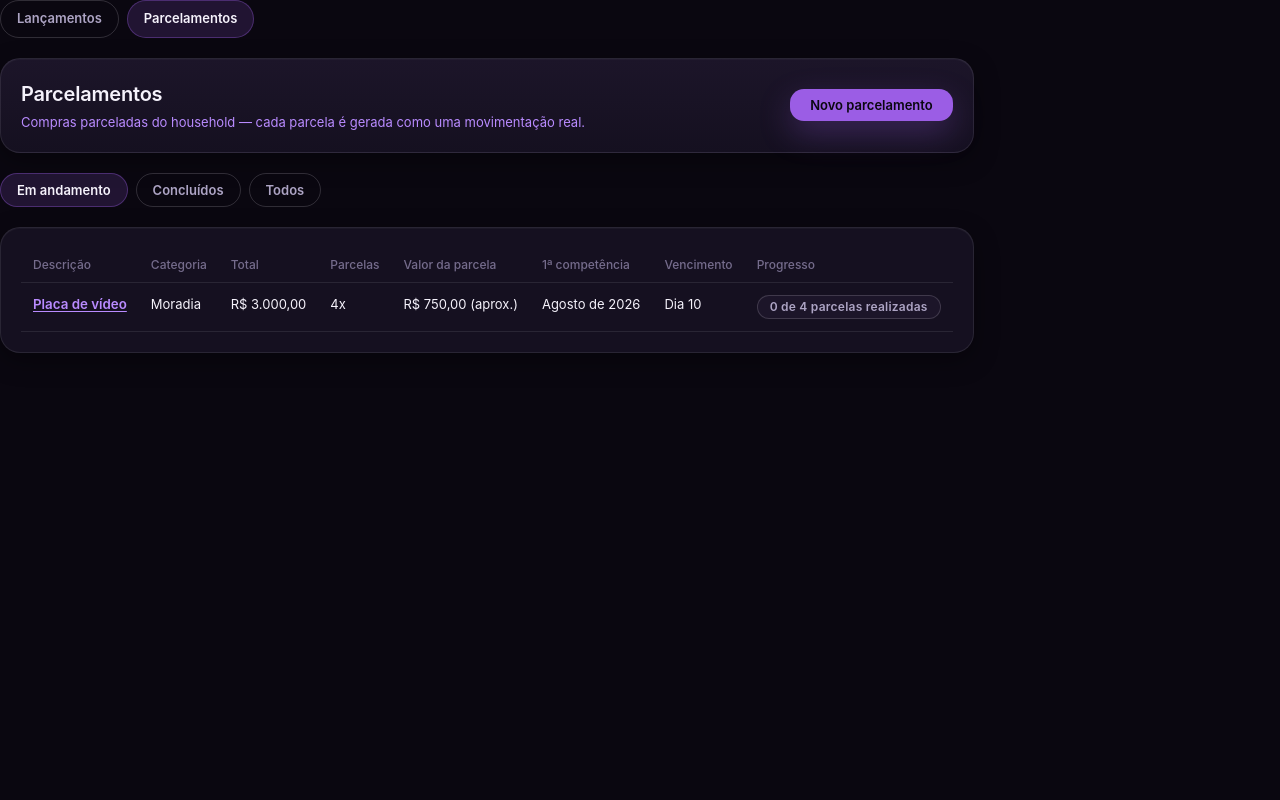
it: InstallmentPlansPage — realizar parcela a partir do detalhe do parcelamento (integração Parcelamentos ↔ Lançamentos) › "Marcar como pago" realiza a MESMA FinancialEntry — sem criar lançamento novo, id/installmentPlanId/installmentNumber preservados
The image size is (1280, 800).
Click the button "Placa de vídeo". click: click(80, 304)
box: [33,296,127,312]
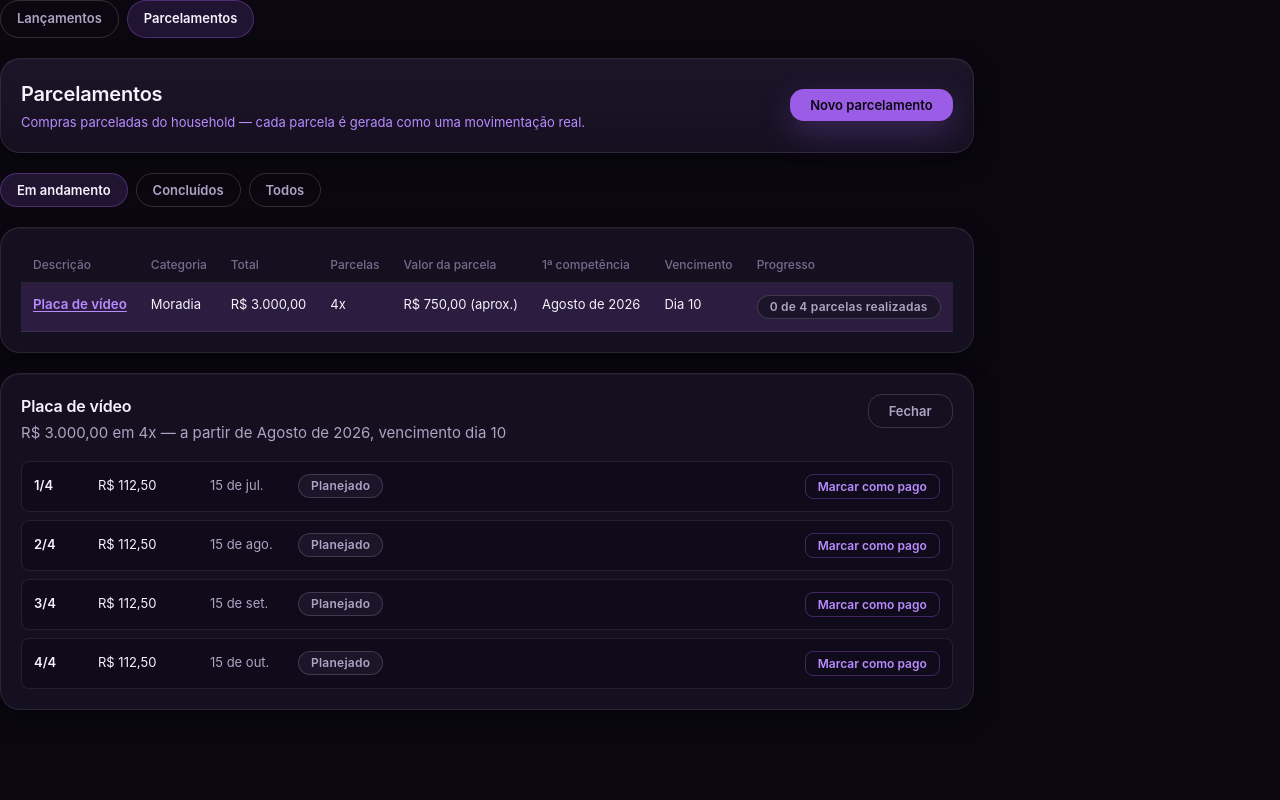
Expected: the text "0 de 4 parcelas realizadas" is shown, [757,295,941,319]
Expected: the button with aria-label "Marcar parcela 1 de 4 como paga" is shown
Click the button with aria-label "Marcar parcela 1 de 4 como paga". click: click(872, 486)
box: [805,474,940,498]
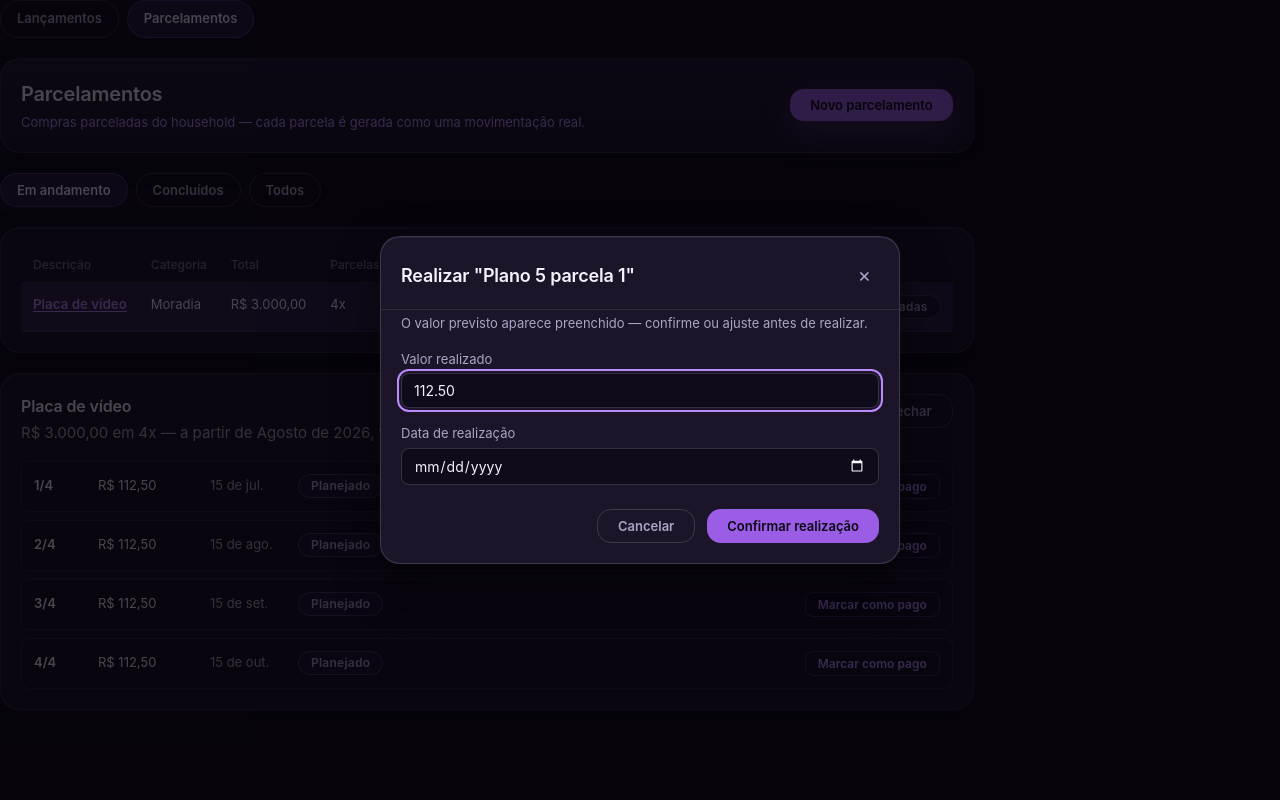
Type "2026-07-20" into the date field labelled "Data de realização". click: (640, 466)
box: [401,448,879,485]
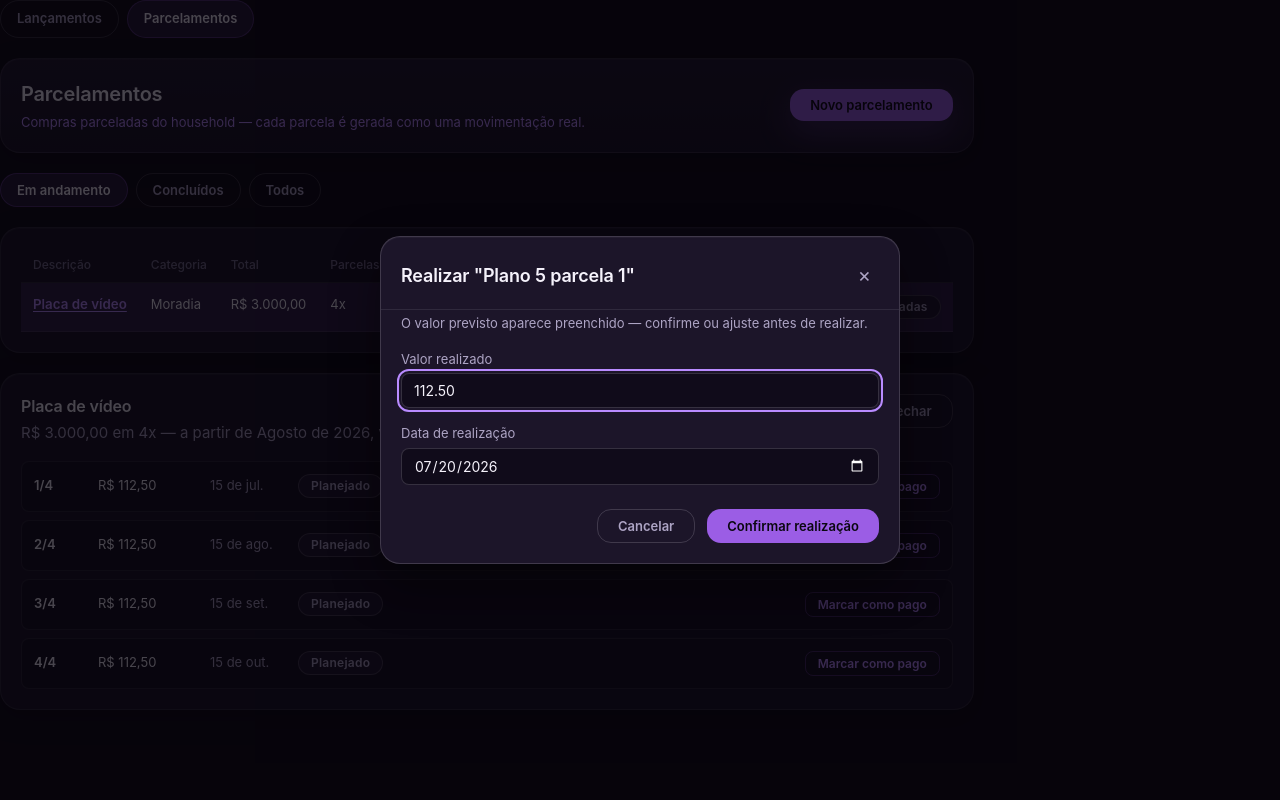
Click the button "Confirmar realização". click: click(793, 526)
box: [707,509,879,543]
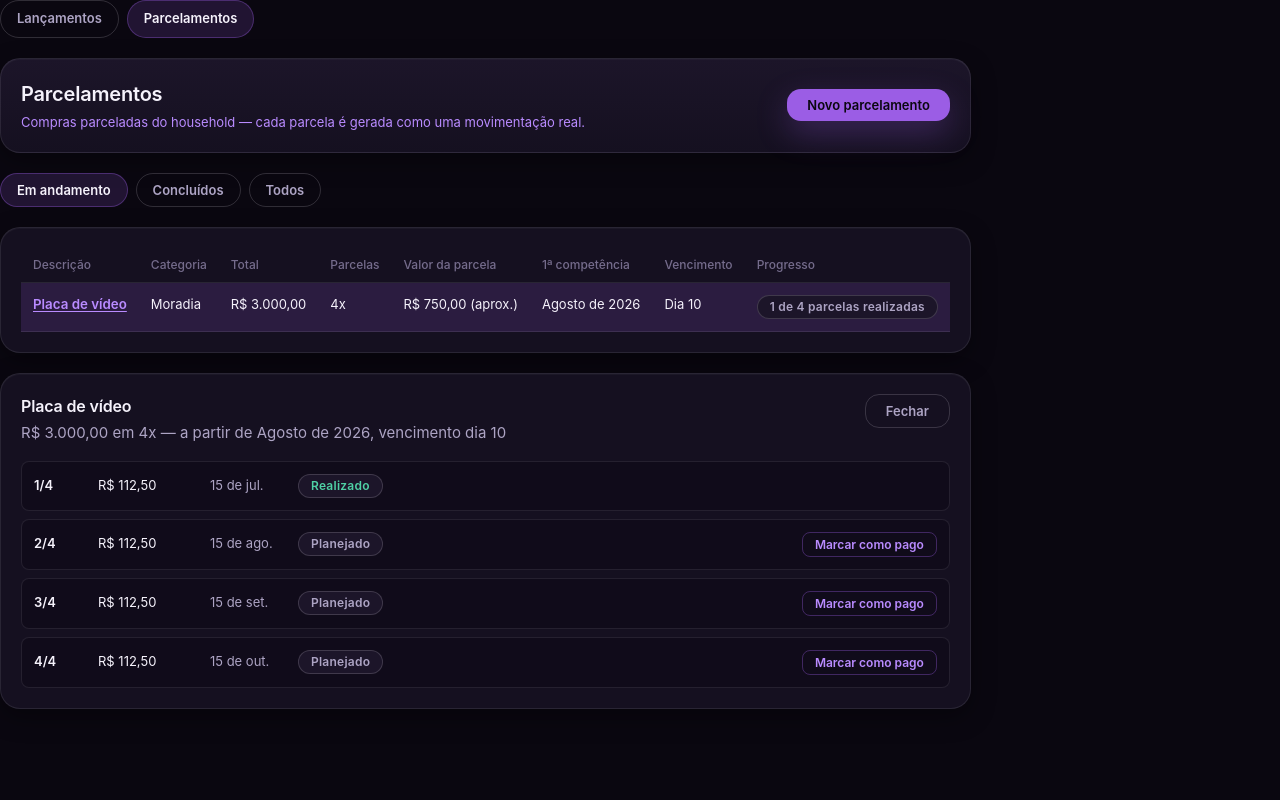
Expected: the dialog is gone
Expected: the text "1 de 4 parcelas realizadas" is shown, [757,295,938,319]
Expected: the button with aria-label "Marcar parcela 2 de 4 como paga" is shown, [802,532,937,556]
